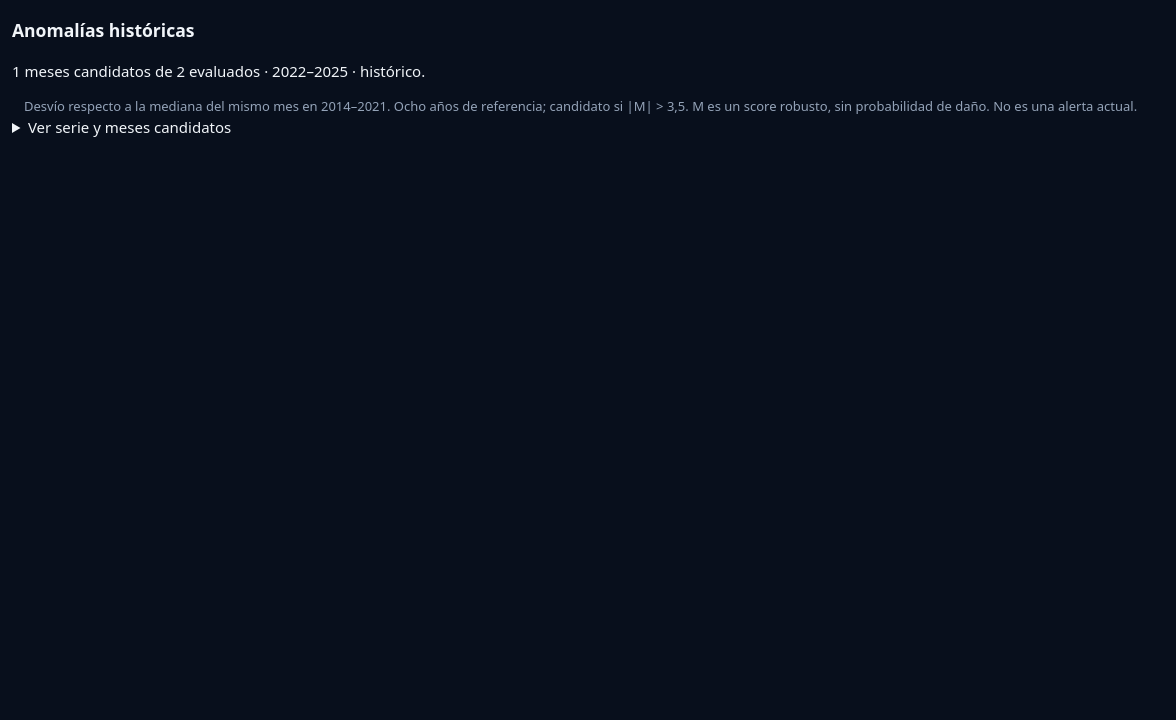
shows historical candidates and provenance without a probability or map pins
Check: the text "1 meses candidatos de 2 evaluados · 2022–2025 · histórico." is shown, box x1=12 y1=60 x2=425 y2=80
Click the heading "Ver serie y meses candidatos". click: (130, 127)
box: x1=28 y1=117 x2=231 y2=137
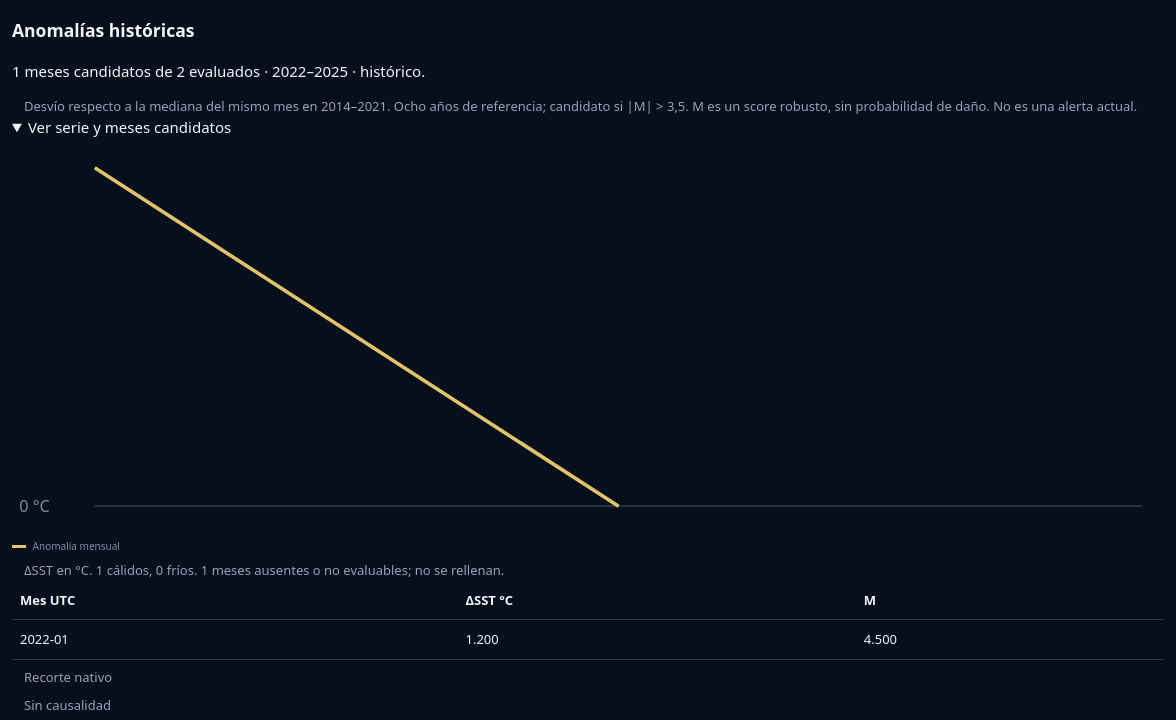
Check: the text "sin probabilidad de daño" is shown, box x1=24 y1=97 x2=1137 y2=115
Check: the picture named "Desvío mensual" is shown, box x1=12 y1=138 x2=1164 y2=534
Check: the text "2022-01" is shown, box x1=12 y1=620 x2=458 y2=660
